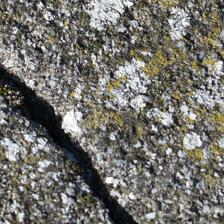Crack: (5, 62, 134, 222)
